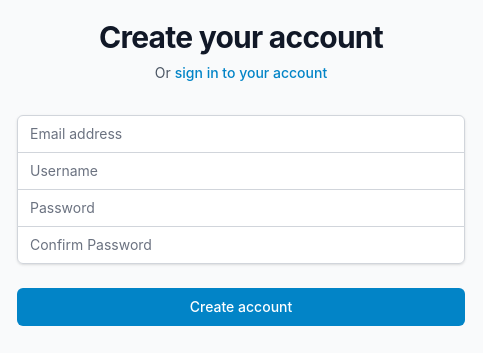
Test: Register form › rejects invalid email
Type "not-an-email" into the field with placeholder "Email address" at (241, 134), box [17, 114, 465, 152]
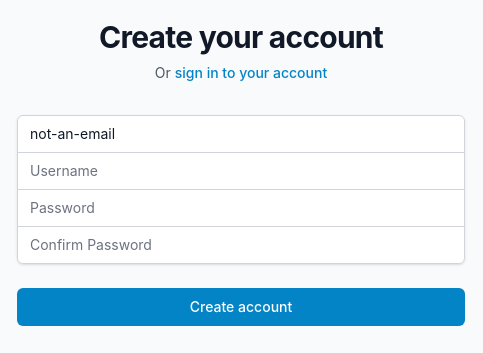
Type "alice" into the field with placeholder "Username" at (241, 170), box [17, 152, 465, 190]
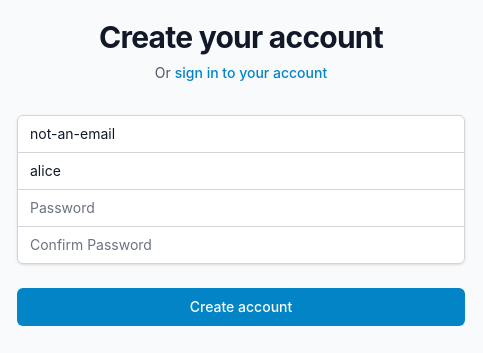
Type "correct-horse" into the password field with placeholder "Password" at (241, 208), box [17, 188, 465, 226]
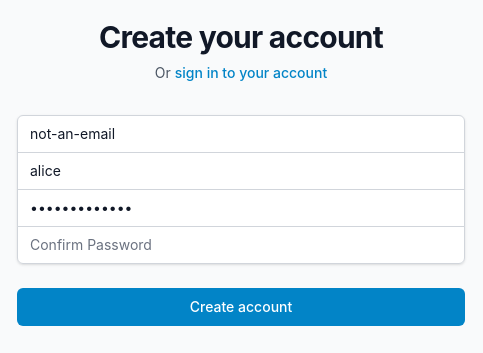
Type "correct-horse" into the password field with placeholder "Confirm Password" at (241, 244), box [17, 226, 465, 264]
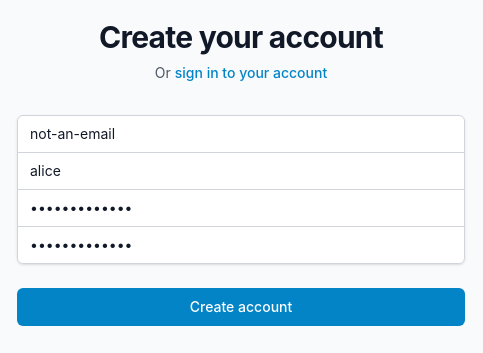
Click the button "Create account" at (241, 306), box [17, 288, 465, 326]
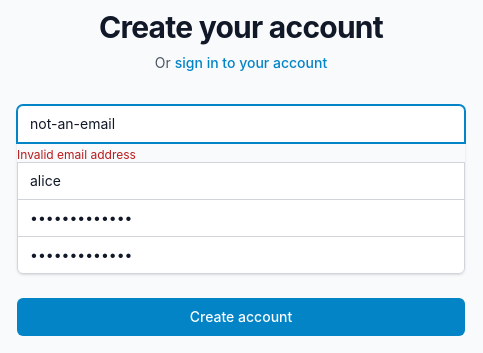
expect the text "Invalid email address" is shown: met, box [17, 146, 136, 162]
